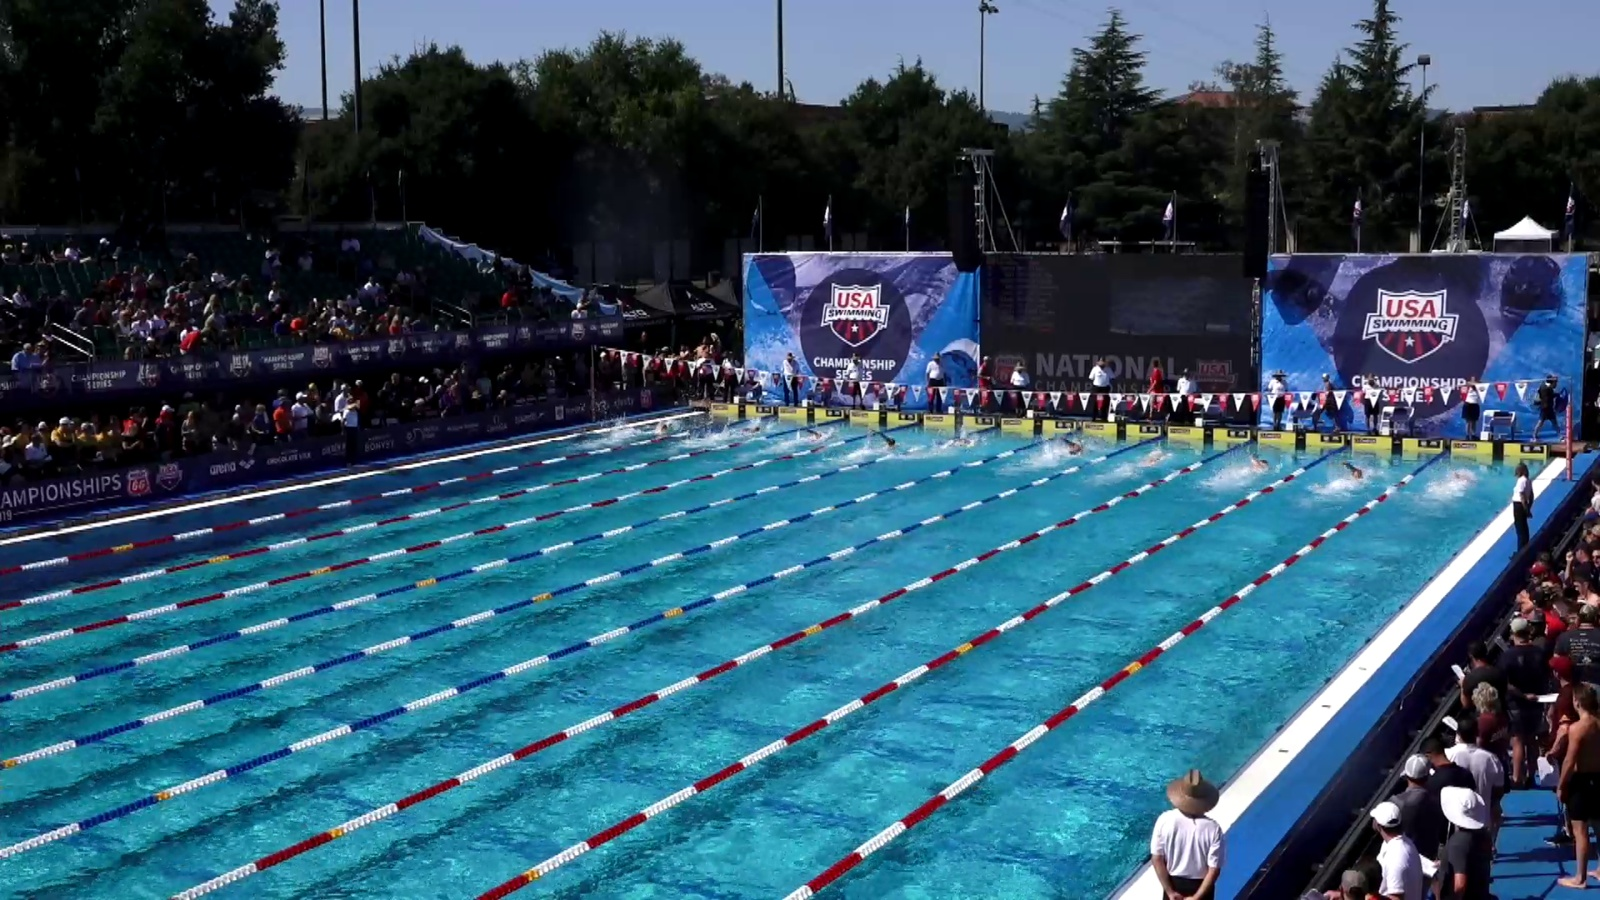swimmerw: (1316, 459, 1378, 507), (1208, 451, 1273, 490), (1418, 470, 1471, 505), (937, 433, 981, 468), (1040, 436, 1088, 467), (852, 429, 899, 458), (1127, 446, 1180, 473), (793, 424, 834, 452), (634, 419, 681, 437), (725, 422, 765, 442)
